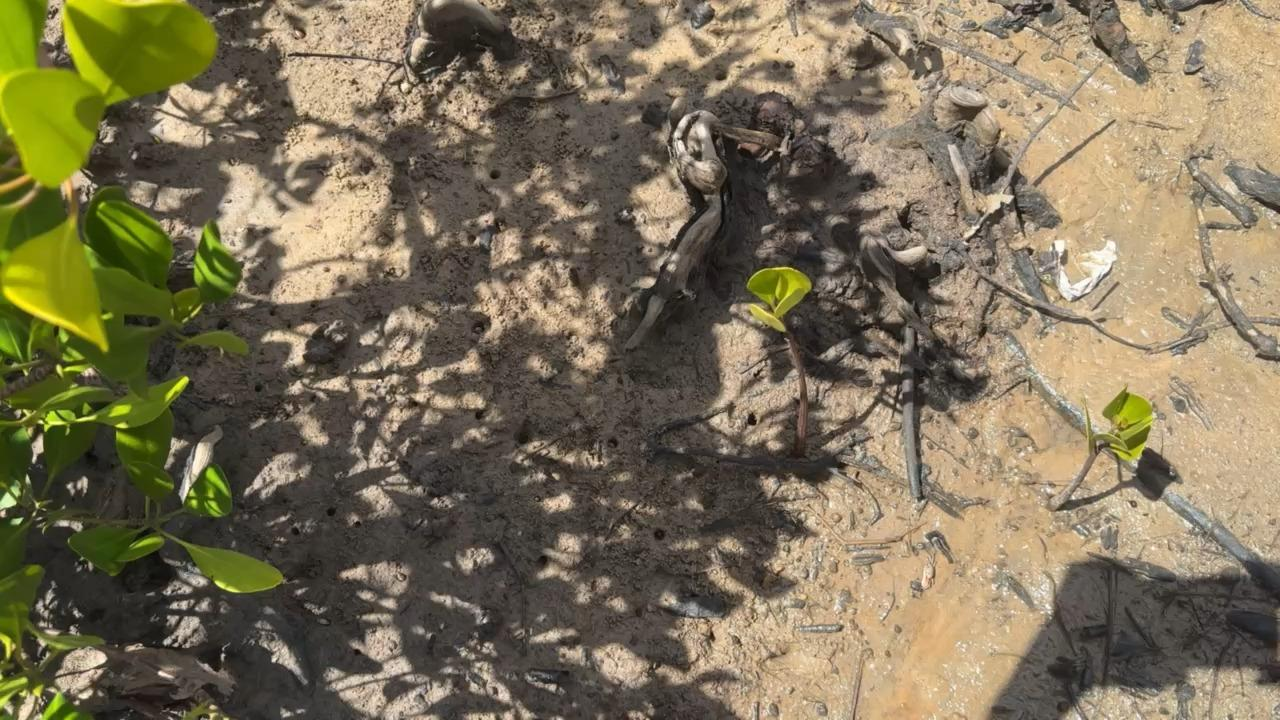Tree: (1046, 383, 1156, 510), (748, 266, 813, 457)
